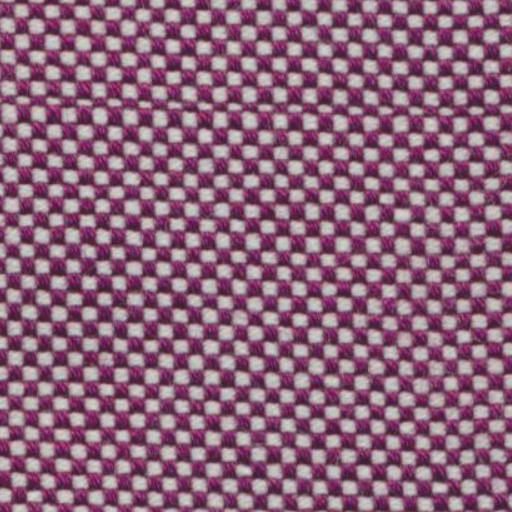TuoSha: (16, 74, 496, 139)
